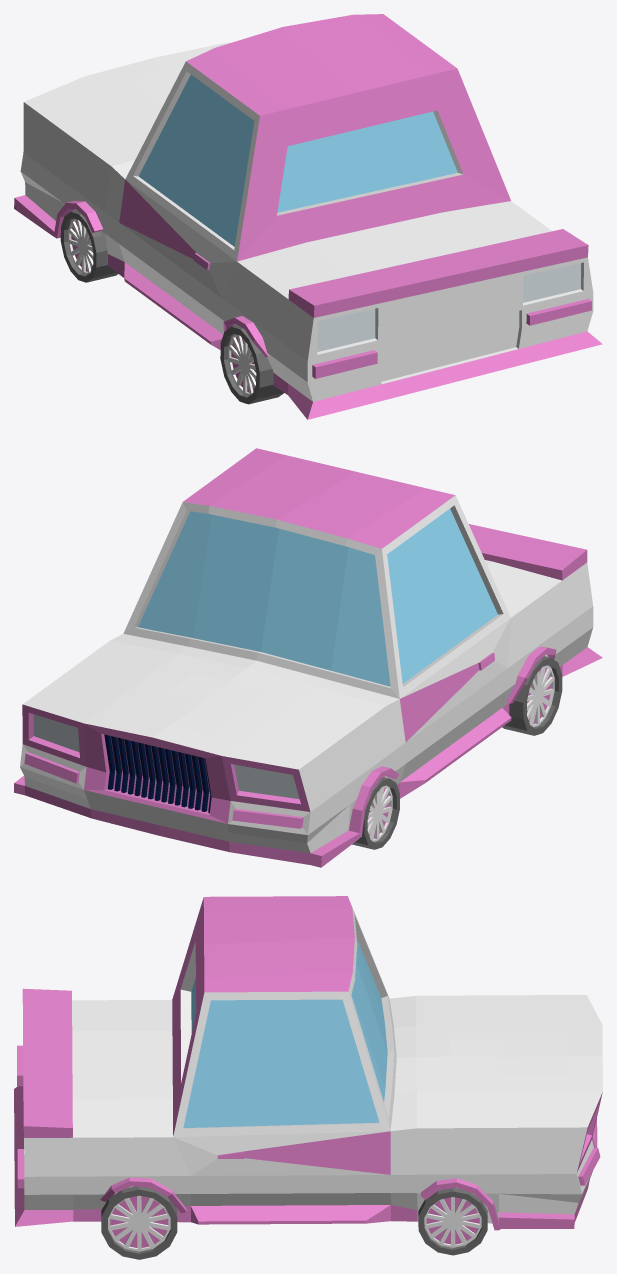
The model's file is Carro.fbx.
3 renders of one model, top to bottom at view 1: azimuth 30°, elevation 25°; view 2: azimuth 150°, elevation 25°; view 3: azimuth 270°, elevation 25°, orthographic. The views are drawn at different scales.
Parts seen in each view (by area): view 1: body, backlight, wheel.1, wheel1.1, front_fender, rear_fender; view 2: body, lattice.1, wheel.1, headlight, wheel1.1, front_fender, rear_fender; view 3: body, wheel.1, wheel1.1, front_fender, rear_fender.
Boxes of the visible parts, x1,y1,x2,y2 form: body: (14, 14, 602, 419); backlight: (317, 263, 580, 351); wheel.1: (220, 325, 283, 404); wheel1.1: (60, 210, 117, 282); front_fender: (54, 200, 102, 238); rear_fender: (223, 316, 269, 356); body: (14, 448, 602, 867); lattice.1: (104, 734, 211, 813); wheel.1: (502, 656, 562, 735); headlight: (33, 714, 299, 798); wheel1.1: (352, 777, 399, 849); front_fender: (348, 766, 398, 837); rear_fender: (506, 646, 556, 703); body: (14, 896, 602, 1228); wheel.1: (101, 1186, 177, 1259); wheel1.1: (418, 1188, 487, 1255); front_fender: (421, 1178, 500, 1230); rear_fender: (100, 1177, 186, 1213).
Size of the model in its own units: 228 by 184 by 389.
